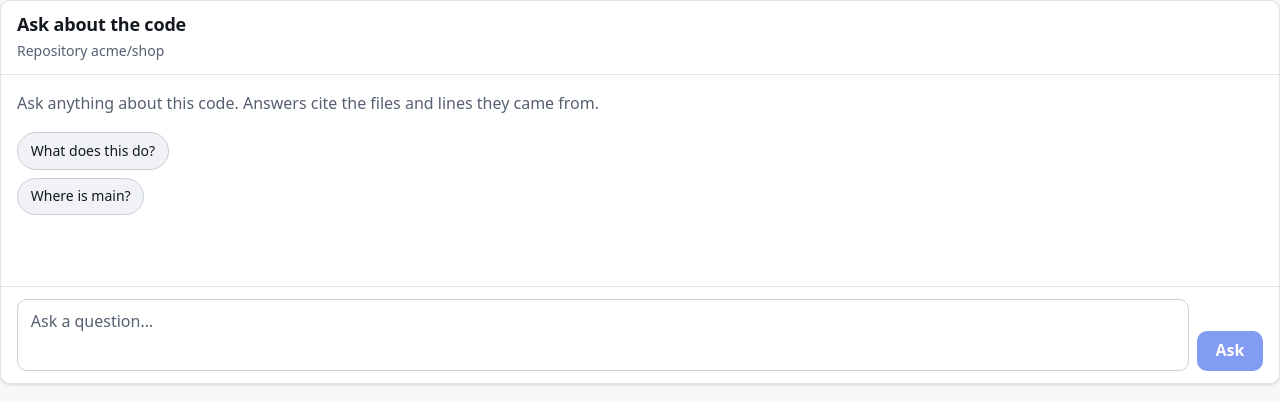
Test case: ChatPanel › asks about a review when given a review id instead of a repository
Type "q" into the text box named "Your question" at (603, 335), box [17,299,1189,371]
Then press Enter
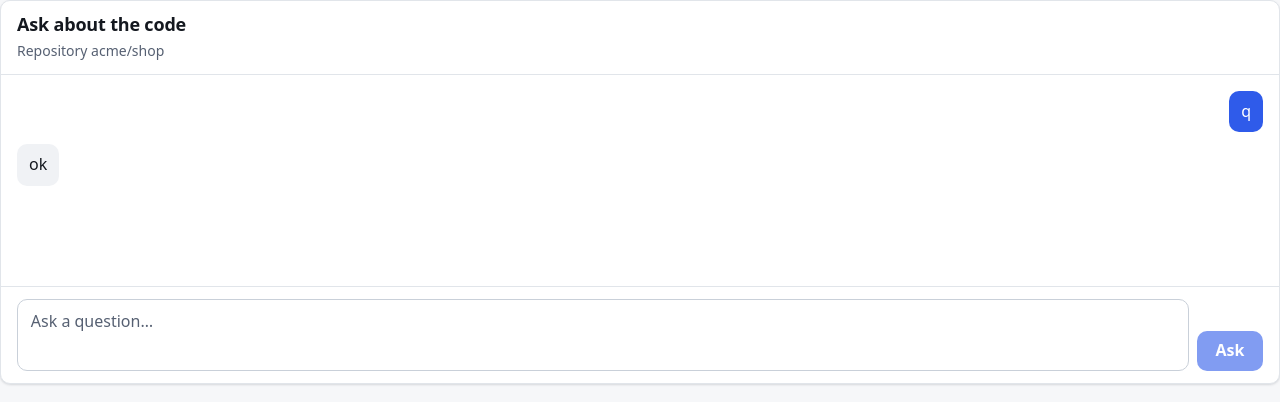
Result: the text "ok" is shown at [29,152,47,178]
